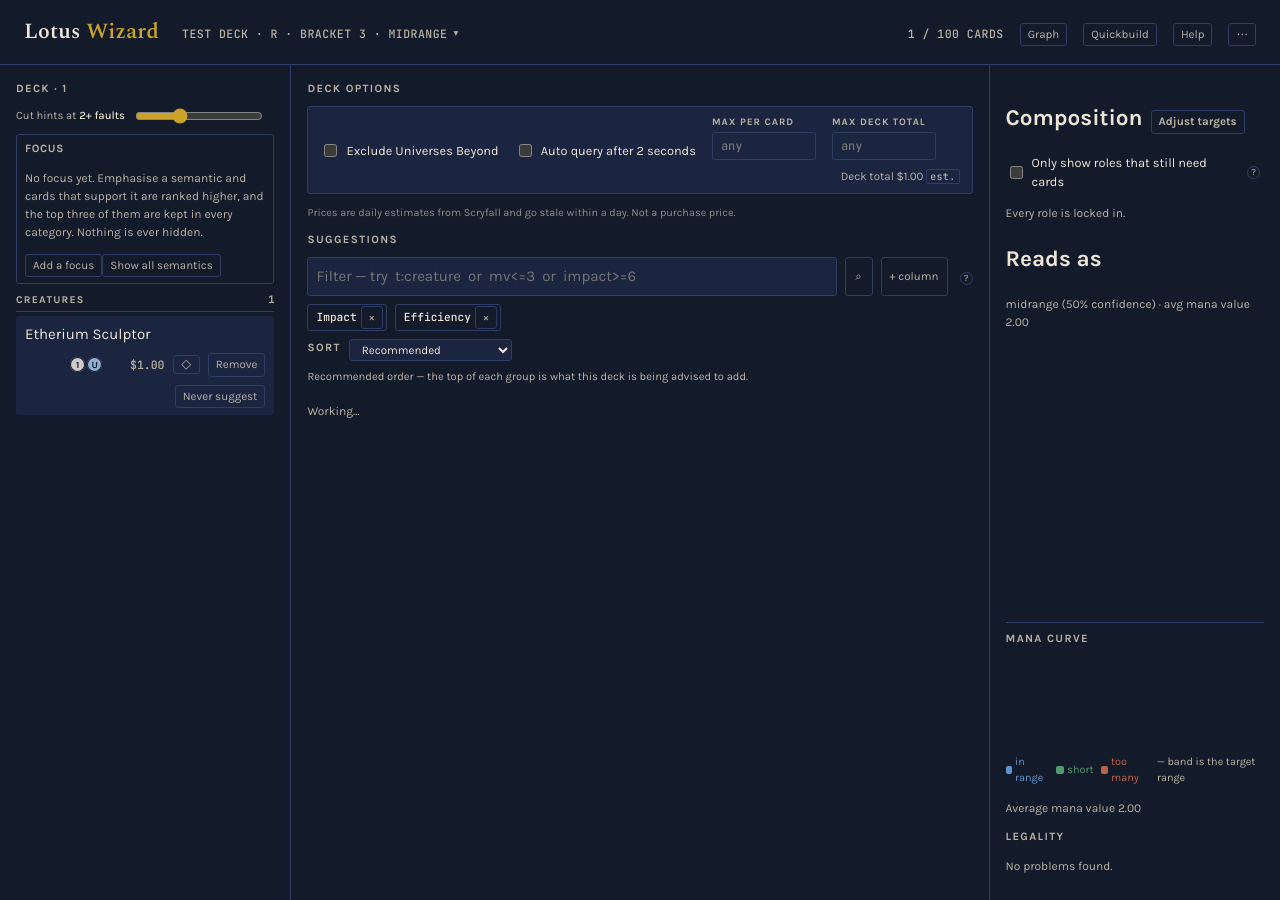
it: a tag tooltip says how to filter by it › names the produces side for a tag the card causes
Click the button with aria-label "Preview Etherium Sculptor": (145, 334) x1=25 y1=323 x2=266 y2=345
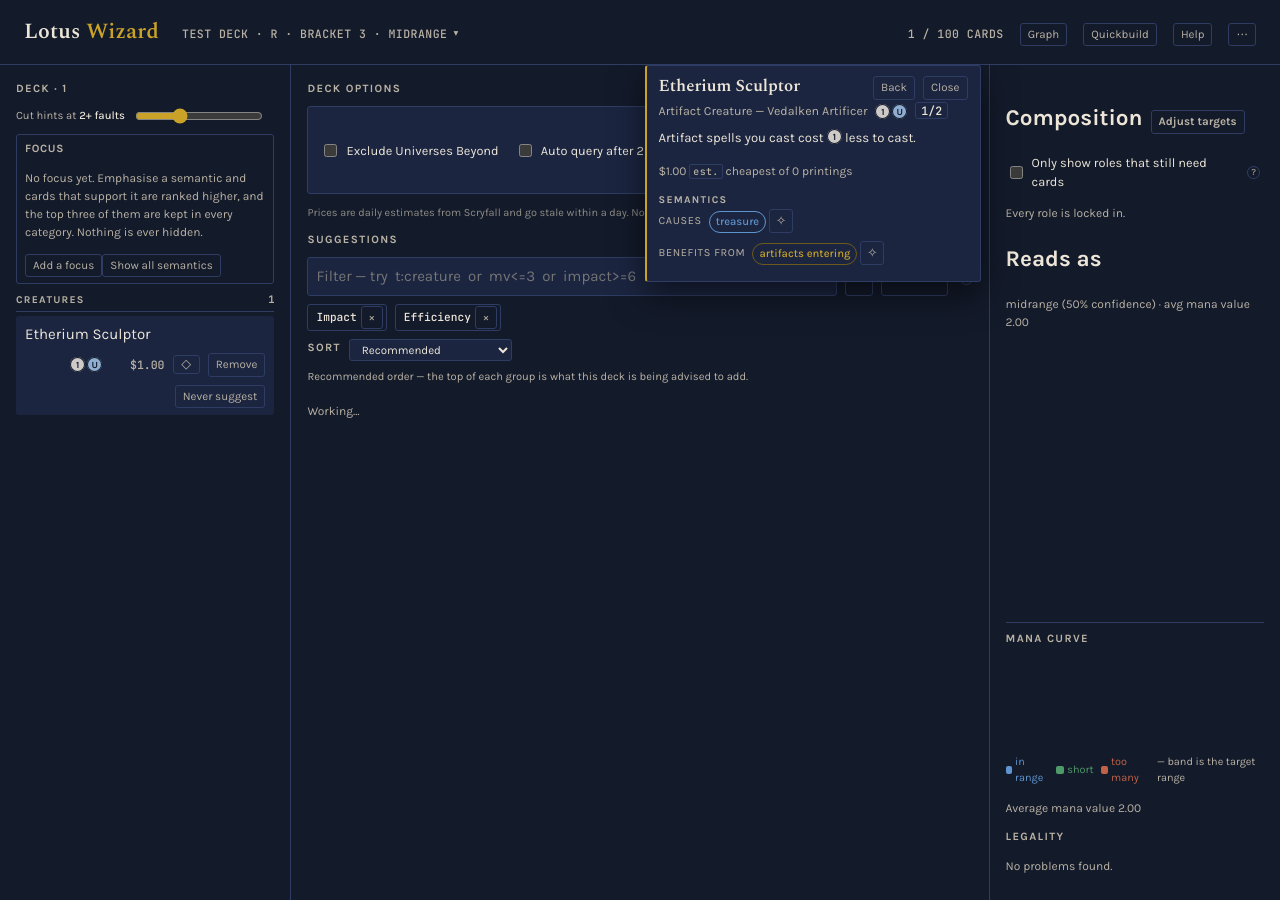
Expected: the heading "Semantics" is shown, x1=658 y1=193 x2=727 y2=206
Click the button "treasure": (737, 221) x1=709 y1=209 x2=766 y2=233
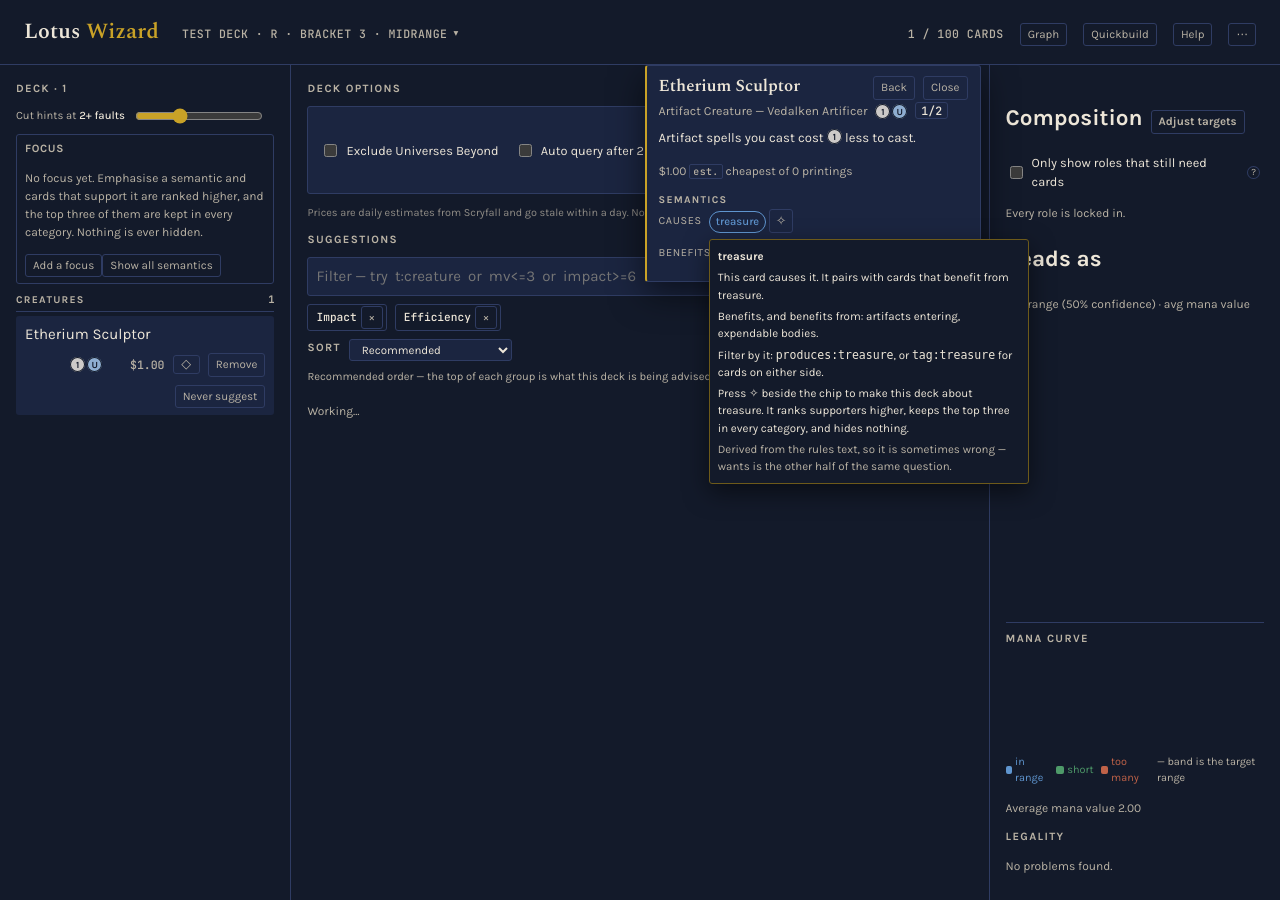
Expected: the tooltip shows "produces:treasure", x1=709 y1=239 x2=1029 y2=484
Expected: the tooltip shows "tag:treasure", x1=709 y1=239 x2=1029 y2=484
